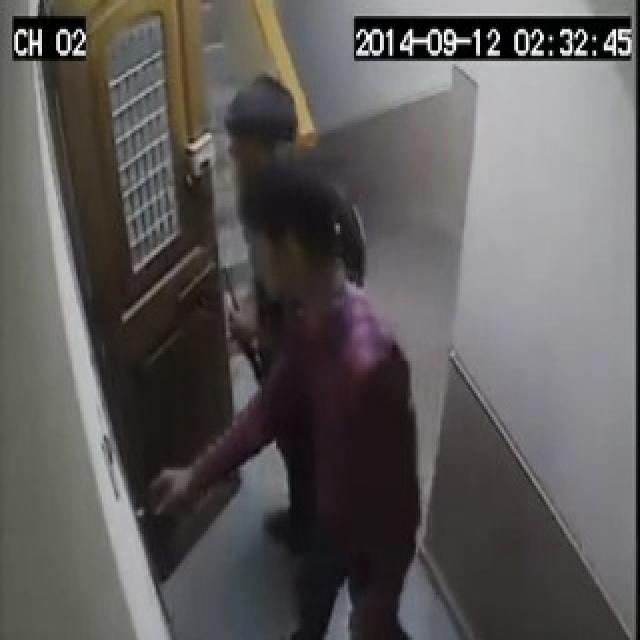thief: (176, 66, 440, 640)
